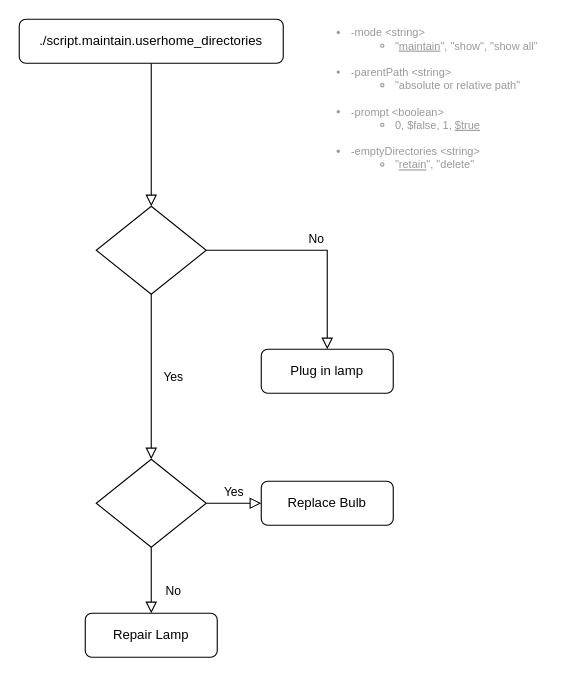
The diagram is 567 pixels wide and 677 high, and some of its shapes have lost their labels. Each missing label, with the centre of its shape:
Bulb burned out?: (150,502)
Lamp plugged in?: (150,249)
